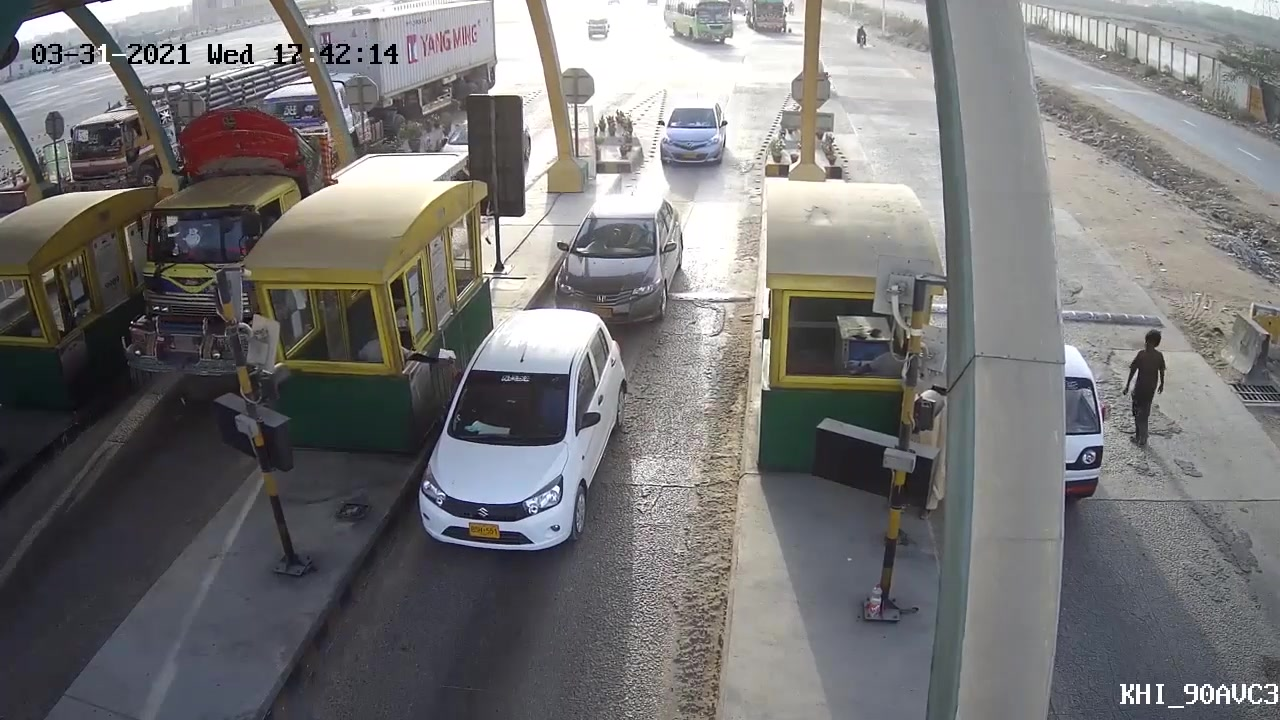F1: (409, 309, 633, 574), (543, 193, 695, 332)
